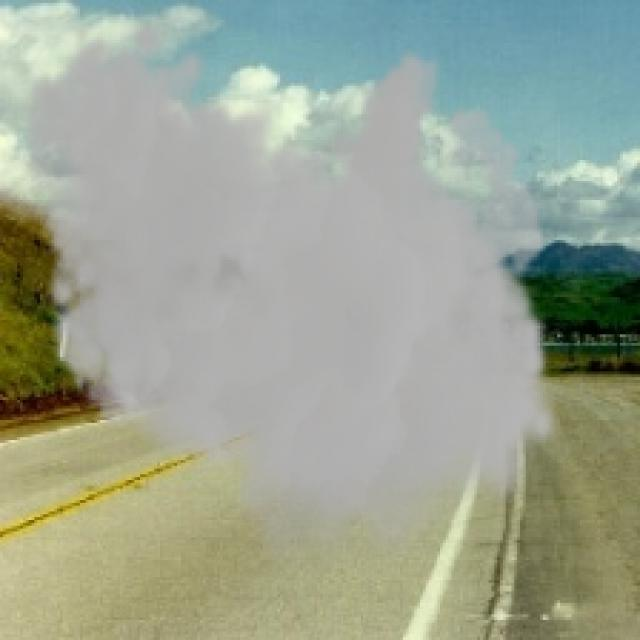Smoke: (20, 14, 563, 574)
